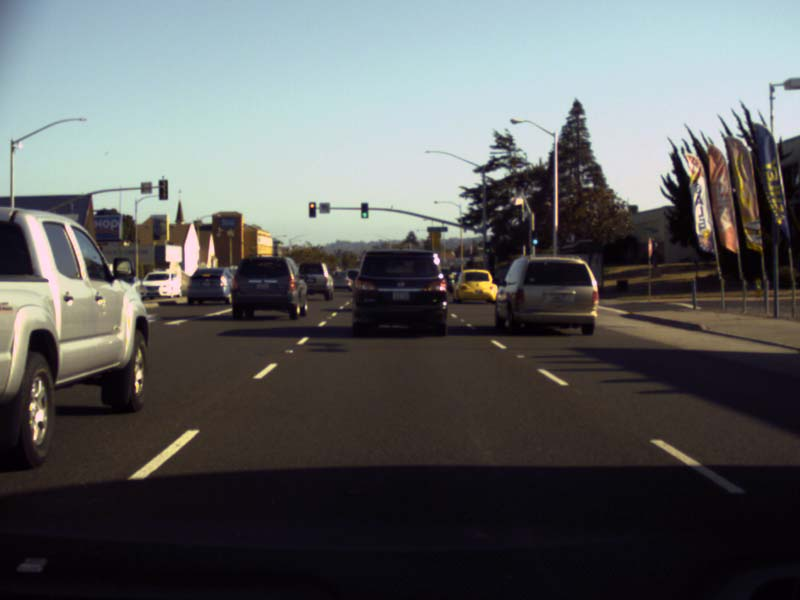Green: (360, 202, 367, 218), (531, 231, 538, 245), (484, 242, 490, 253)
Red: (308, 202, 316, 217)
